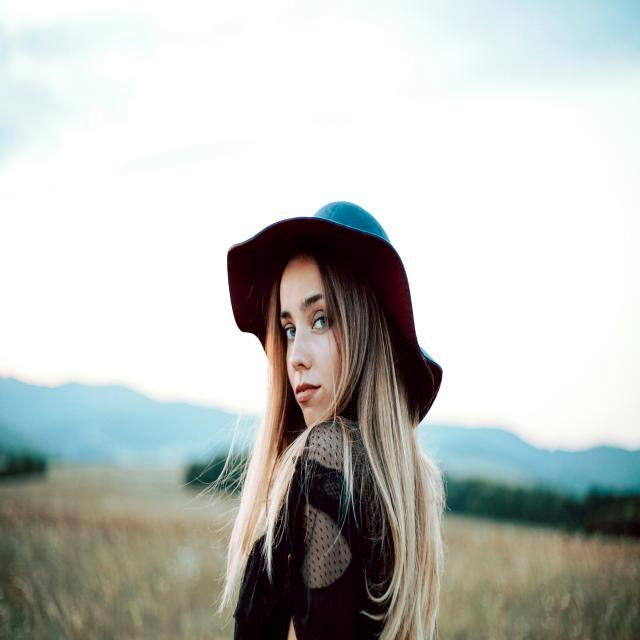no_hard_hat: (227, 202, 442, 420)
person: (223, 200, 443, 634)
